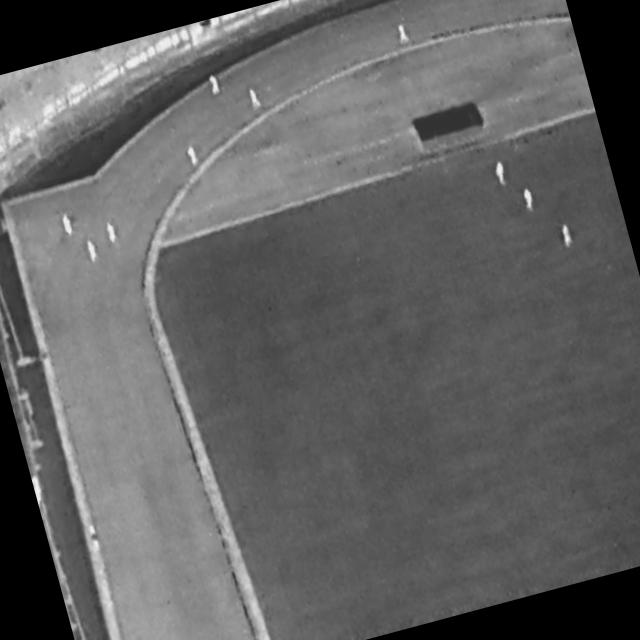person: (88, 523, 103, 553), (493, 160, 509, 188), (61, 213, 76, 239), (522, 186, 537, 212), (87, 239, 101, 265), (560, 223, 574, 249), (248, 86, 263, 110), (105, 221, 119, 245), (187, 144, 201, 167), (209, 74, 222, 95), (397, 24, 410, 45)
